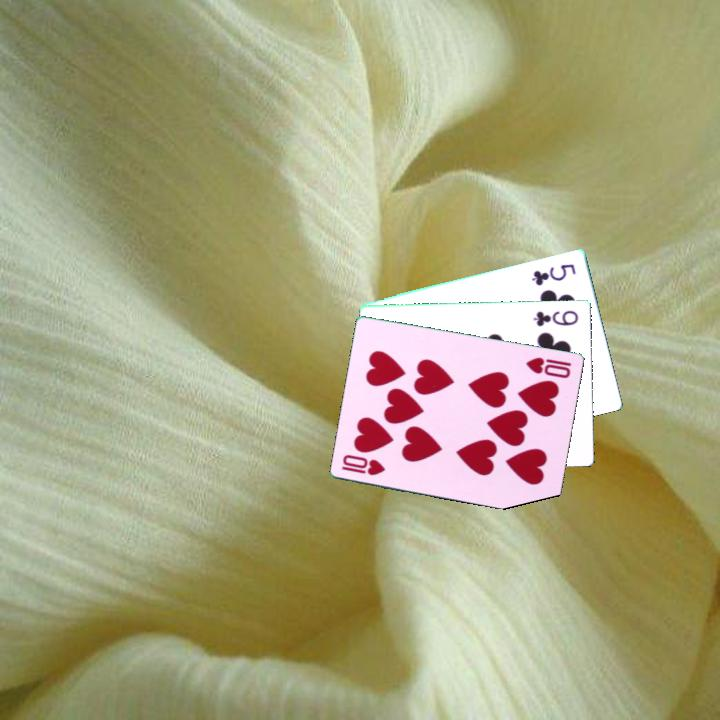10h: (522, 353, 574, 381), (339, 451, 389, 478)
5c: (528, 260, 579, 288)
9c: (530, 306, 581, 329)
